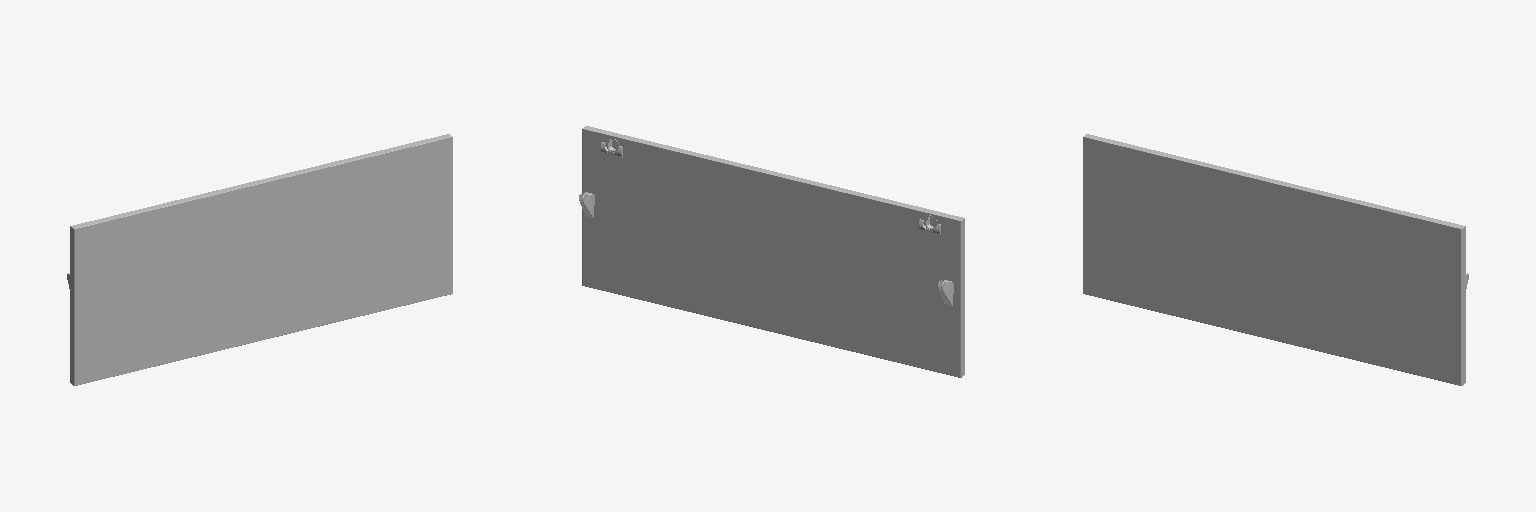
Rendered from Kitchen04Door02.obj.
3 views of the same model, side by side, from view 1: azimuth 30°, elevation 25°; view 2: azimuth 150°, elevation 25°; view 3: azimuth 330°, elevation 25° (orthographic).
Parts seen in each view (by area): view 1: SM_Kitchen_04_Door_02_17; view 2: SM_Kitchen_04_Door_02_17; view 3: SM_Kitchen_04_Door_02_17.
Part boxes in pixels (left/top/right/bottom): SM_Kitchen_04_Door_02_17: left=67, top=134, right=452, bottom=385; SM_Kitchen_04_Door_02_17: left=579, top=126, right=964, bottom=377; SM_Kitchen_04_Door_02_17: left=1083, top=134, right=1468, bottom=385.
Size of the model in its own units: 99.69 by 39.6 by 6.97.